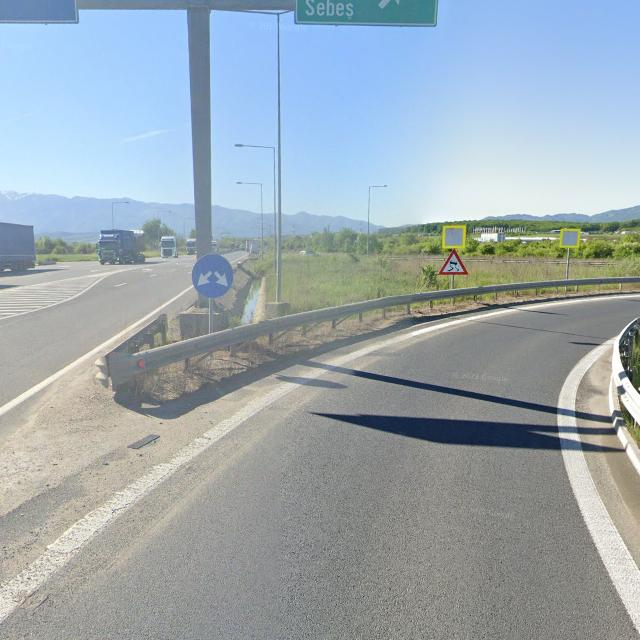mand_pass_left_right: (192, 253, 233, 297)
warn_slippery_road: (438, 249, 469, 275)
